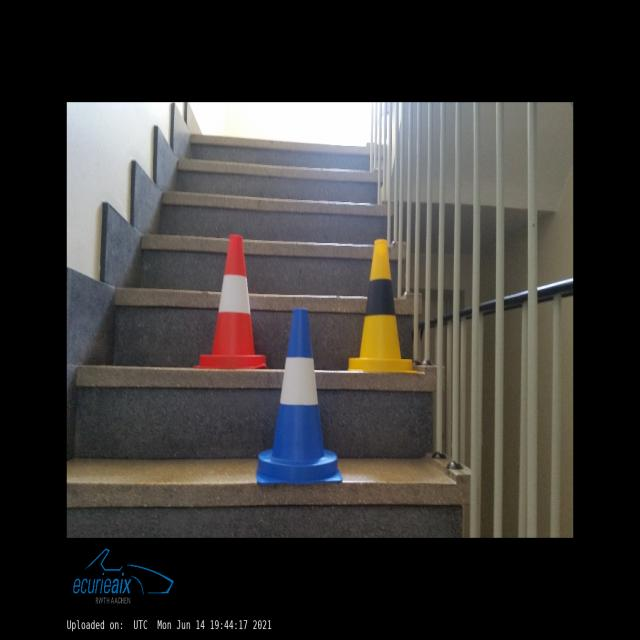blue_cone: (257, 309, 342, 484)
orange_cone: (193, 234, 267, 369)
yellow_cone: (348, 239, 417, 373)
